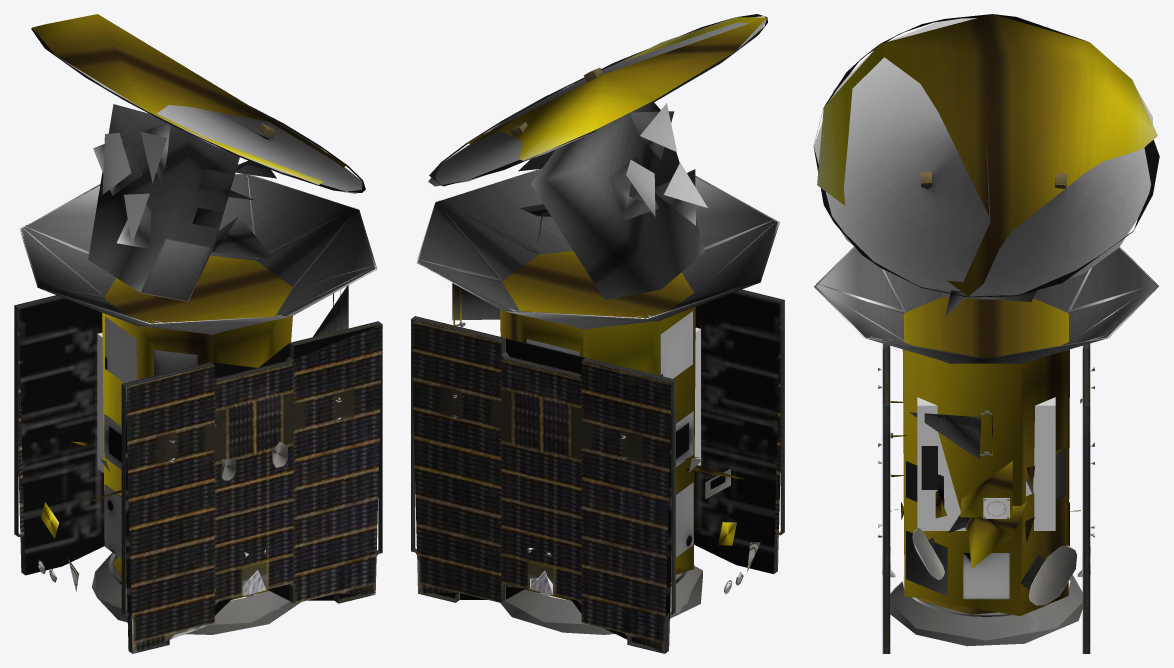
Rendered from aquarius-b.glb.
3 views of the same model, side by side, from view 1: azimuth 30°, elevation 25°; view 2: azimuth 150°, elevation 25°; view 3: azimuth 270°, elevation 25° (orthographic). The views are drawn at different scales.
Visible parts, largest first — view 1: shiny_panel_left, foil_silver, foil_gold, tex_02, AO_other_ud, AO_dish_ud, tex_black, _root; view 2: shiny_panel_left, foil_silver, foil_gold, tex_02, AO_other_ud, AO_dish_ud, tex_black, _root; view 3: foil_gold, AO_dish_ud, foil_silver, shiny_panel_left, _root, AO_other_ud, tex_black.
Boxes of the visible parts, bbox=[...] form: shiny_panel_left: bbox=[14, 123, 382, 653]; foil_silver: bbox=[19, 104, 376, 600]; foil_gold: bbox=[32, 14, 346, 599]; tex_02: bbox=[18, 297, 378, 648]; AO_other_ud: bbox=[38, 132, 212, 582]; AO_dish_ud: bbox=[60, 58, 364, 193]; tex_black: bbox=[31, 28, 365, 192]; _root: bbox=[97, 332, 103, 472]; shiny_panel_left: bbox=[411, 67, 784, 653]; foil_silver: bbox=[416, 102, 779, 600]; foil_gold: bbox=[453, 17, 766, 600]; tex_02: bbox=[434, 292, 780, 645]; AO_other_ud: bbox=[526, 103, 743, 593]; AO_dish_ud: bbox=[428, 17, 766, 186]; tex_black: bbox=[429, 14, 767, 186]; _root: bbox=[694, 327, 700, 465]; foil_gold: bbox=[817, 14, 1157, 616]; AO_dish_ud: bbox=[814, 18, 1152, 295]; foil_silver: bbox=[814, 246, 1158, 616]; shiny_panel_left: bbox=[878, 171, 1094, 653]; _root: bbox=[917, 397, 1055, 530]; AO_other_ud: bbox=[906, 447, 1069, 599]; tex_black: bbox=[813, 14, 1159, 489].
Size of the model in its own units: 2.5 by 4.21 by 2.51.
7 materials, 7 textured.
